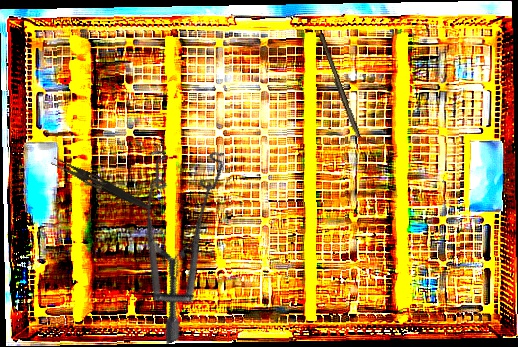Dressing Forceps: (49, 156, 153, 212)
Scalpel Handle: (315, 33, 363, 139)
Speculum: (95, 126, 284, 345)
